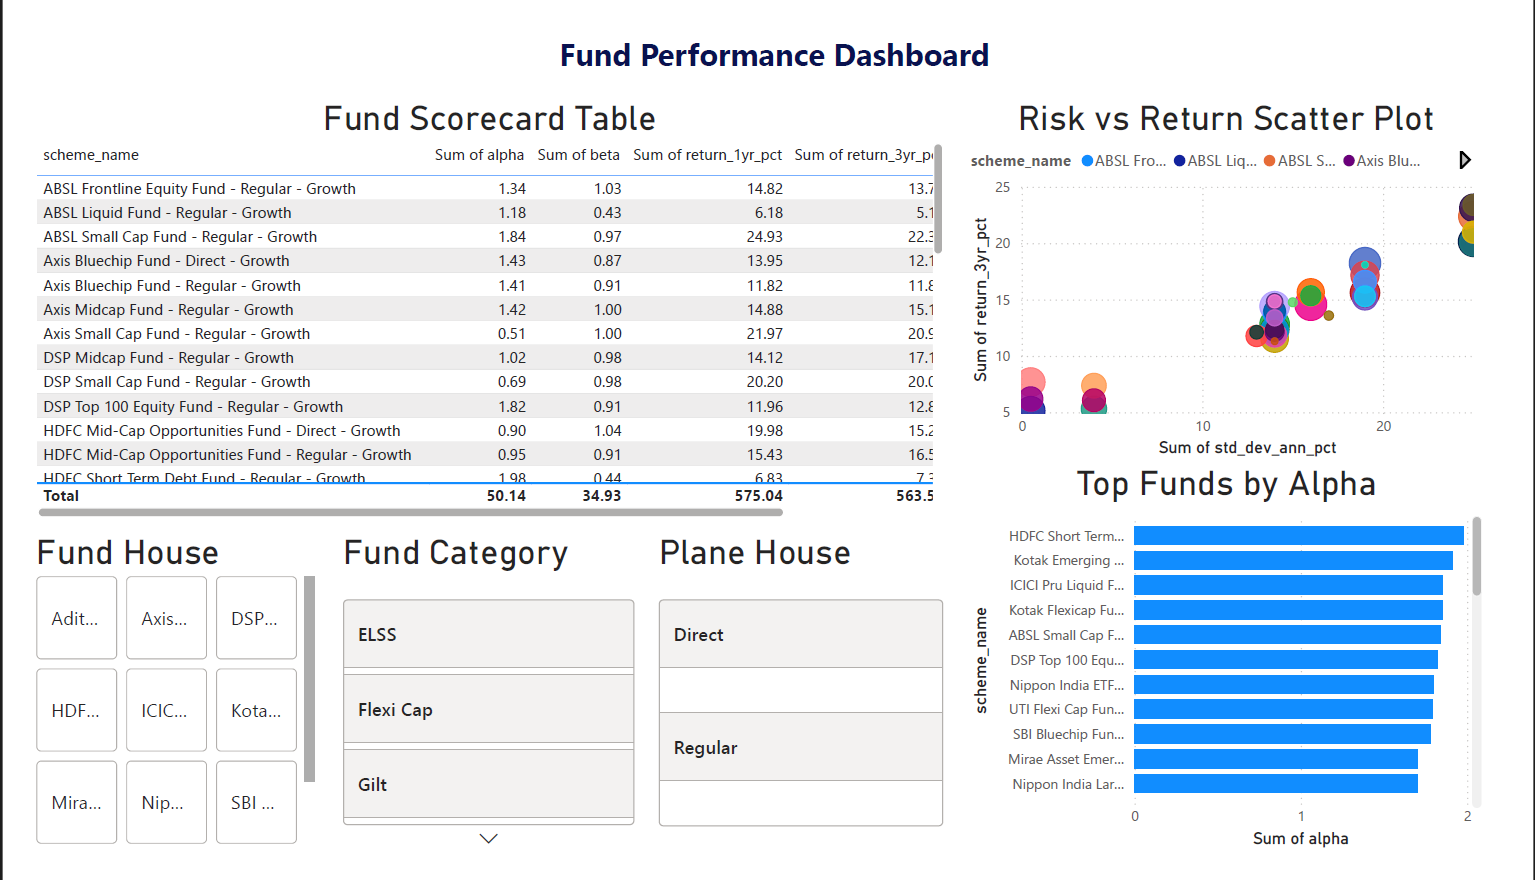

The dashboard page shown, as its layout file describes it:
{"tool":"powerbi","page":{"name":"Fund Performance ","canvas":[1280,720],"ordinal":1},"visuals":[{"type":"tableEx","title":"Fund Scorecard Table","fields":{"Values":["07_scheme_performance.scheme_name","Sum(07_scheme_performance.alpha)","Sum(07_scheme_performance.beta)","Sum(07_scheme_performance.return_1yr_pct)","Sum(07_scheme_performance.return_3yr_pct)","Sum(07_scheme_performance.return_5yr_pct)"]},"box":[0,62.4,797.5,368.5],"z":0},{"type":"scatterChart","title":"Risk vs Return Scatter Plot","fields":{"X":["Sum(07_scheme_performance.std_dev_ann_pct)"],"Y":["Sum(07_scheme_performance.return_3yr_pct)"],"Size":["Sum(07_scheme_performance.aum_crore)"],"Series":["07_scheme_performance.scheme_name"]},"box":[810.7,62.4,453.5,315.6],"z":1000},{"type":"clusteredBarChart","title":"Top Funds by Alpha","fields":{"Category":["07_scheme_performance.scheme_name"],"Y":["Sum(07_scheme_performance.alpha)"]},"box":[810.7,378,453.5,342],"z":2000},{"type":"advancedSlicerVisual","title":"Fund House","fields":{"Values":["07_scheme_performance.fund_house"]},"box":[0,438.4,251.3,281.6],"z":3000},{"type":"cardVisual","title":"Fund Category","fields":{"Rows":["07_scheme_performance.category"]},"box":[266.5,438.4,262.7,281.6],"z":4000},{"type":"cardVisual","title":"Plane House","fields":{"Rows":["07_scheme_performance.plan"]},"box":[540.5,438.4,257,281.6],"z":5000},{"type":"textbox","box":[151.2,0,988.4,62.4],"z":6000}]}

Visuals, with their boxes in screenshot pixels (x1, y1, x2, y2), scaled from the page's 1280x720 canvas onto the 1535x880 screenshot:
"Fund Scorecard Table" tableEx: Rect(0, 76, 956, 527)
"Risk vs Return Scatter Plot" scatterChart: Rect(972, 76, 1516, 462)
"Top Funds by Alpha" clusteredBarChart: Rect(972, 462, 1516, 879)
"Fund House" advancedSlicerVisual: Rect(0, 536, 301, 879)
"Fund Category" cardVisual: Rect(320, 536, 635, 879)
"Plane House" cardVisual: Rect(648, 536, 956, 879)
textbox: Rect(181, 0, 1367, 76)
